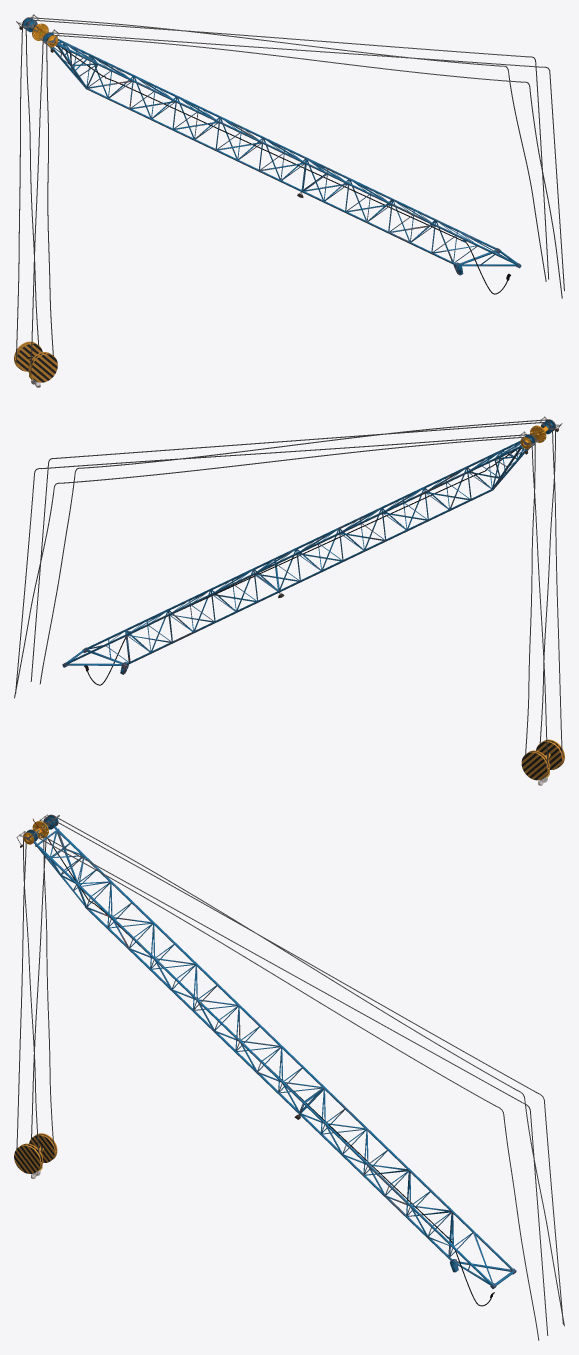
File: Crane hook.fbx
3 views of the same model, one above another, from view 1: azimuth 30°, elevation 25°; view 2: azimuth 150°, elevation 25°; view 3: azimuth 330°, elevation 25° (orthographic).
Parts seen in each view (by area): view 1: Object_11.001, Cylinder.006; view 2: Object_11.001, Cylinder.006; view 3: Object_11.001, Cylinder.006.
Boxes of the visible parts, x1,y1,x2,y2 form: Object_11.001: (16, 14, 564, 366); Cylinder.006: (14, 341, 57, 382); Object_11.001: (14, 416, 562, 767); Cylinder.006: (521, 739, 564, 780); Object_11.001: (16, 814, 564, 1340); Cylinder.006: (14, 1133, 57, 1173).
Size of the model in its own units: 6443 by 4525 by 683.
3 materials, 3 textured.
